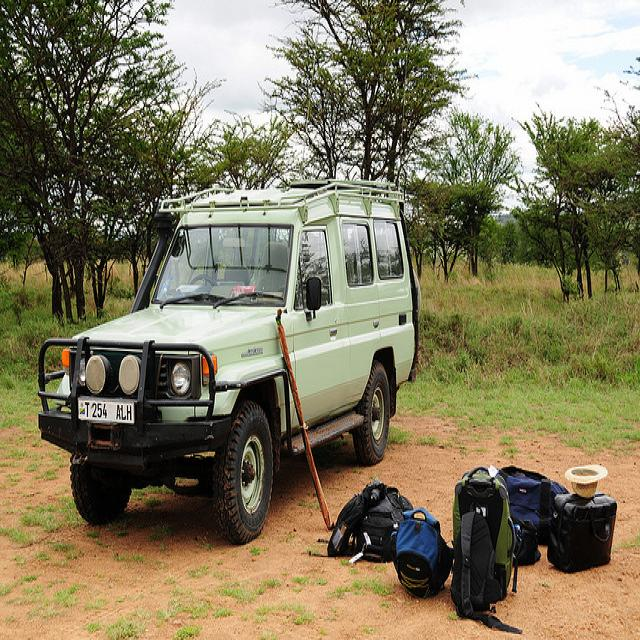Vehicle: (36, 181, 421, 554)
